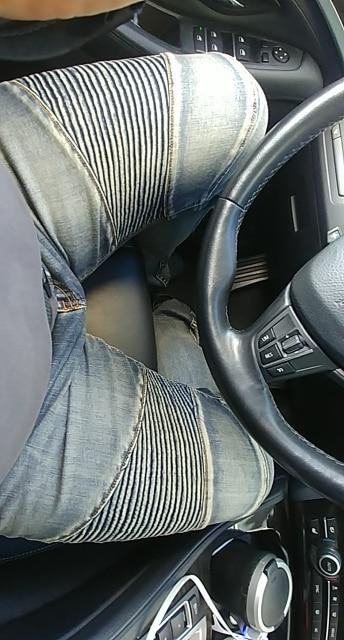jeans: (17, 50, 277, 514)
